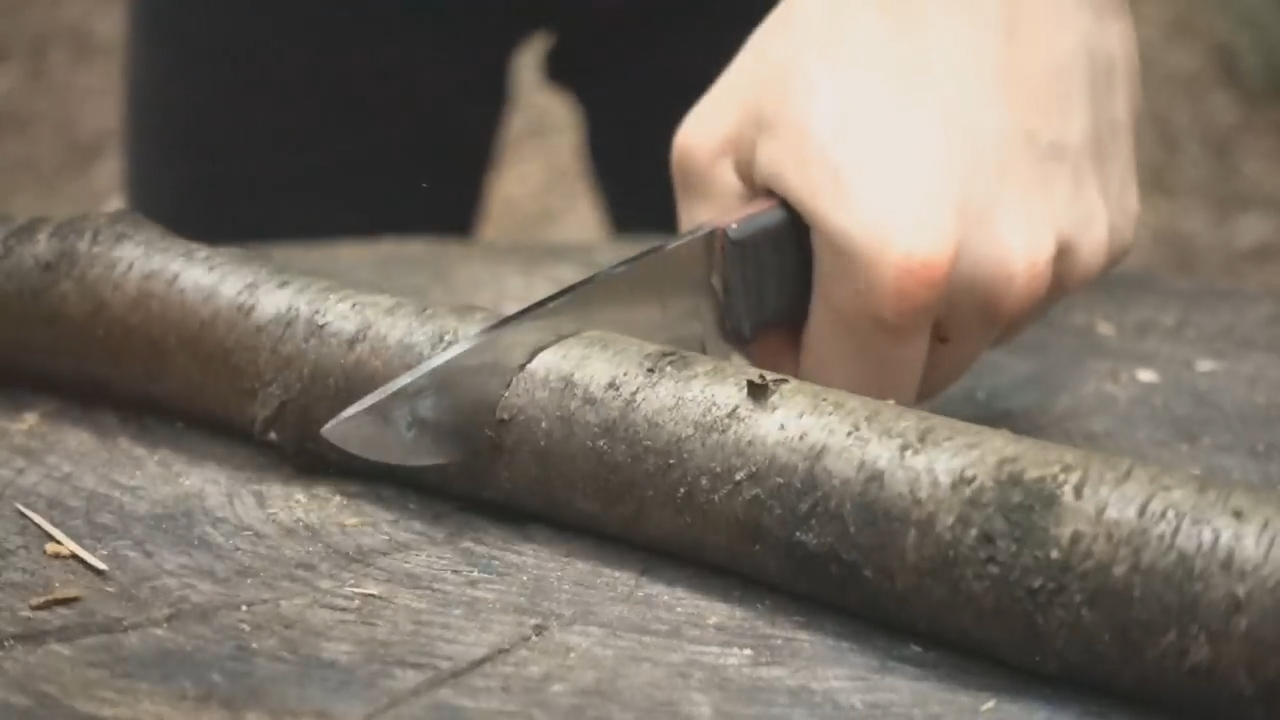knife: (294, 146, 893, 490)
